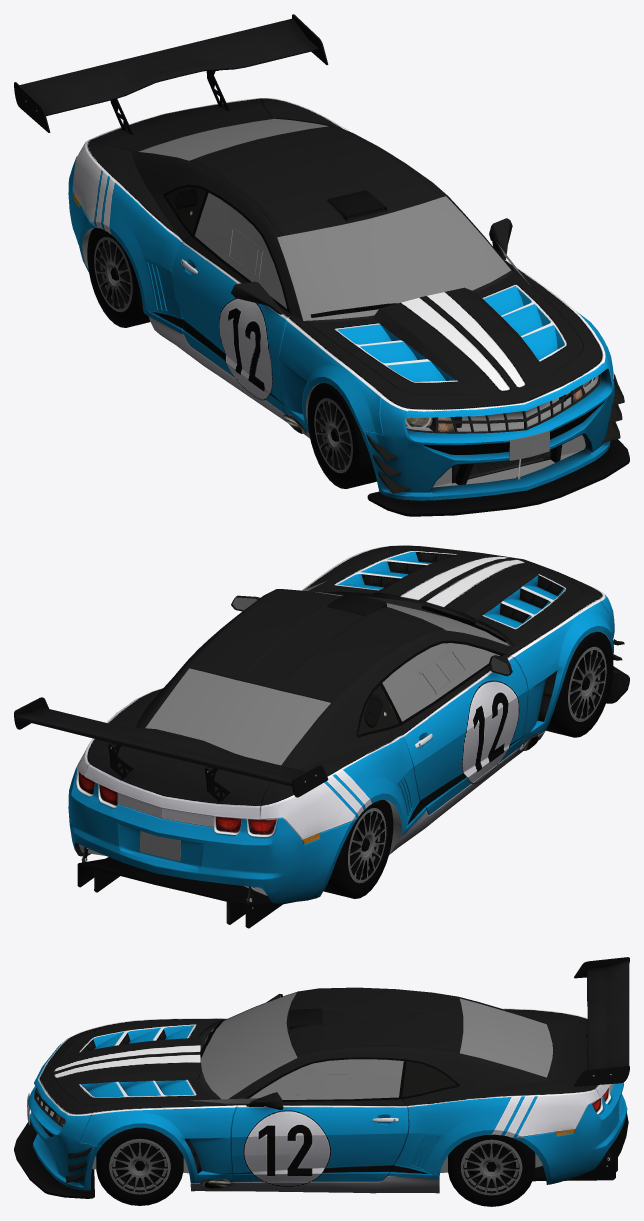
Rendered from car 2.fbx.
The picture shows the model from 3 angles, top to bottom: view 1: azimuth 30°, elevation 25°; view 2: azimuth 150°, elevation 25°; view 3: azimuth 270°, elevation 25°; orthographic projection. The views are drawn at different scales.
Visible parts, largest first — view 1: model_1, Object006, model_2, Object014, Object013, model_6, Object010, model_3; view 2: model_1, Object006, model_2, Object014, Object013, model_6, model_3, Object010; view 3: model_1, Object006, model_2, Object014, Object012, Object011, Object010.
Part boxes in pixels (box(x1,y1,x2,y2)): model_1: box(68, 98, 614, 500); Object006: box(138, 118, 510, 320); model_2: box(73, 128, 629, 516); Object014: box(14, 14, 328, 134); Object013: box(307, 383, 376, 488); model_6: box(87, 228, 150, 327); Object010: box(82, 228, 598, 487); model_3: box(509, 430, 549, 460); model_1: box(68, 545, 614, 904); Object006: box(145, 591, 509, 765); model_2: box(74, 552, 629, 928); Object014: box(14, 697, 328, 801); Object013: box(546, 631, 613, 737); model_6: box(323, 799, 393, 898); model_3: box(140, 831, 180, 861); Object010: box(79, 632, 609, 895); model_1: box(27, 987, 627, 1193); Object006: box(201, 992, 552, 1099); model_2: box(14, 1008, 628, 1198); Object014: box(574, 957, 629, 1086); Object012: box(96, 1127, 183, 1205); Object011: box(448, 1134, 535, 1206); Object010: box(37, 1097, 542, 1186).
Size of the model in its own units: 210 by 130 by 500.
7 materials, 3 textured.
